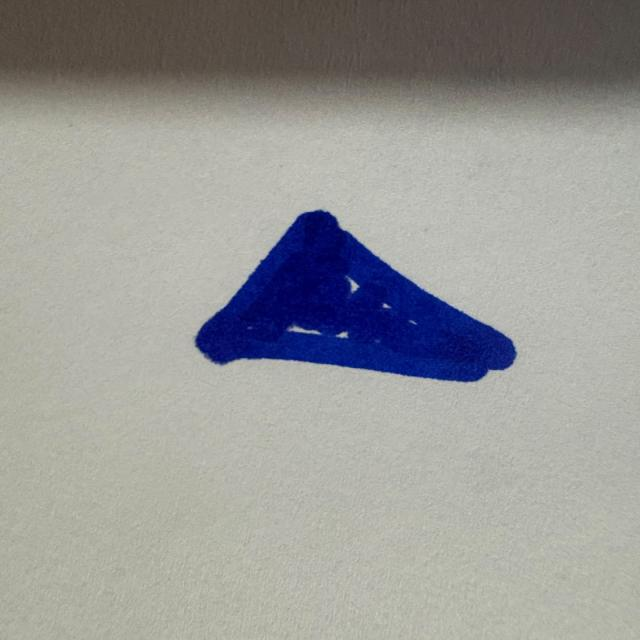Triangle: (196, 210, 516, 382)
